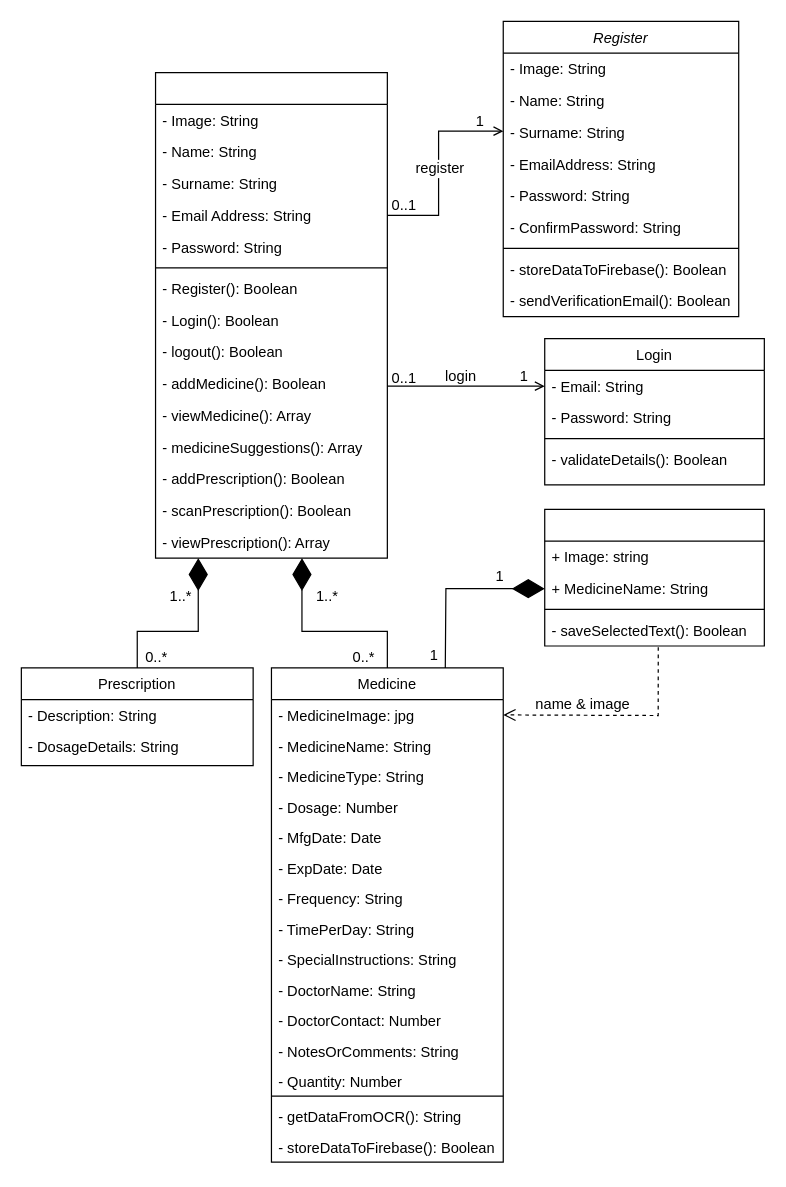
Some shapes in this 786 by 1187 pixel diagram are drawn without their labels. The shapes that lost their labels are listed below. From the top down, each one's box as (x1, y1, x2, y2) in pixels, then its label:
(154, 71, 387, 558): User
(544, 508, 764, 646): OCR
